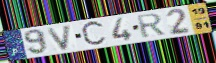2: (165, 8, 192, 37)
4: (111, 16, 135, 42)
9: (23, 29, 49, 56)
C: (80, 19, 108, 48)
R: (135, 13, 168, 39)
V: (45, 23, 74, 52)
